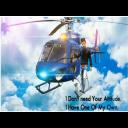helicopter: (12, 18, 128, 98)
